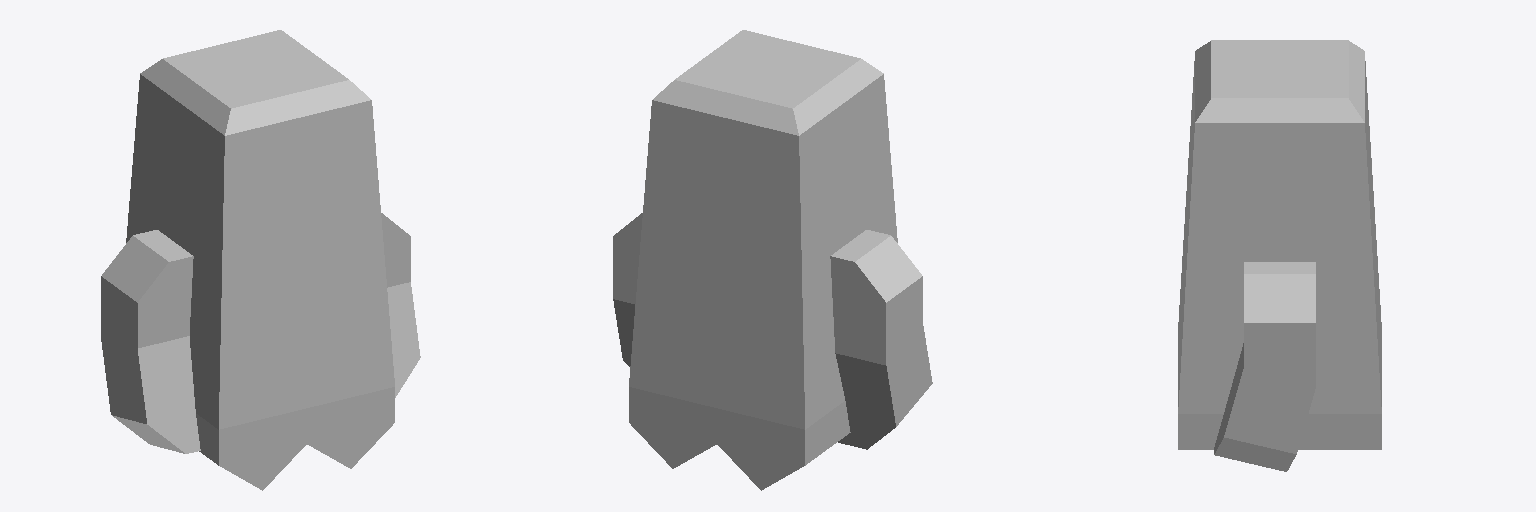
Rendered from characterGhost.obj.
3 views of the same model, side by side, from view 1: azimuth 30°, elevation 25°; view 2: azimuth 150°, elevation 25°; view 3: azimuth 270°, elevation 25° (orthographic).
Visible parts, largest first — view 1: body, armRight, armLeft; view 2: body, armRight, armLeft; view 3: body, armLeft.
Boxes of the visible parts, <box> form: body: <box>126,30,394,490</box>; armRight: <box>101,230,200,453</box>; armLeft: <box>381,213,420,397</box>; body: <box>629,30,897,490</box>; armRight: <box>830,230,932,449</box>; armLeft: <box>613,213,642,366</box>; body: <box>1178,40,1381,449</box>; armLeft: <box>1214,262,1315,471</box>.
Bounding box in the file's own units: 0.4832 × 0.6312 × 0.312.